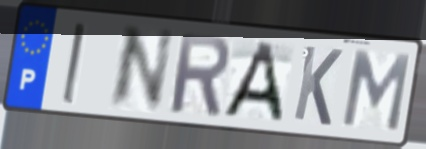A: (218, 38, 285, 125)
I: (59, 19, 87, 107)
K: (290, 42, 346, 129)
M: (337, 47, 413, 135)
N: (104, 24, 178, 112)
R: (168, 29, 233, 118)
